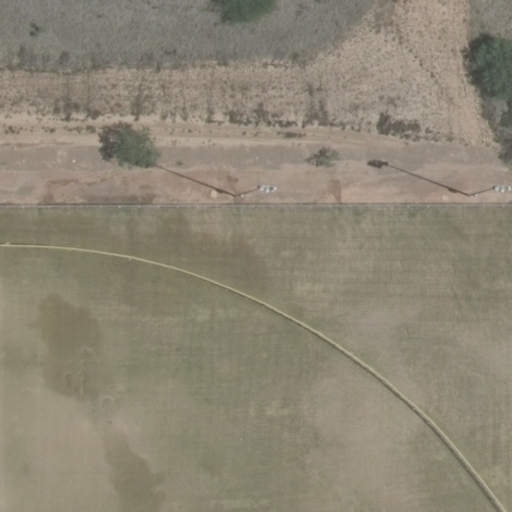DT: (243, 181, 283, 197)
